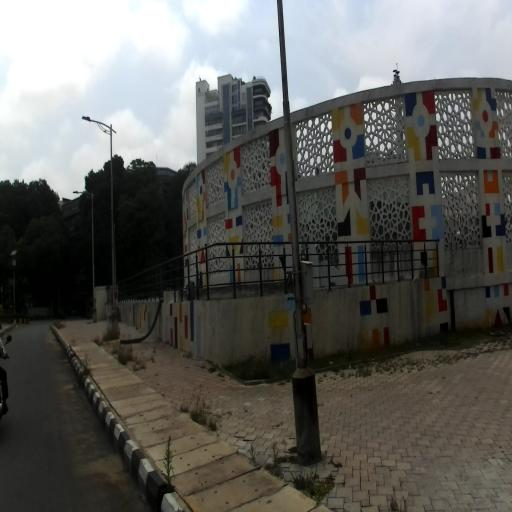street_light_0: (82, 116, 116, 137), (73, 191, 94, 199)
